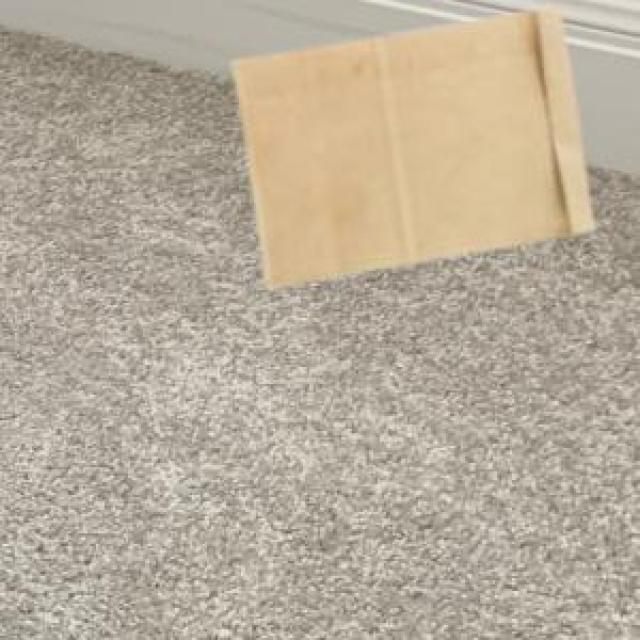paper: (228, 4, 589, 282)
